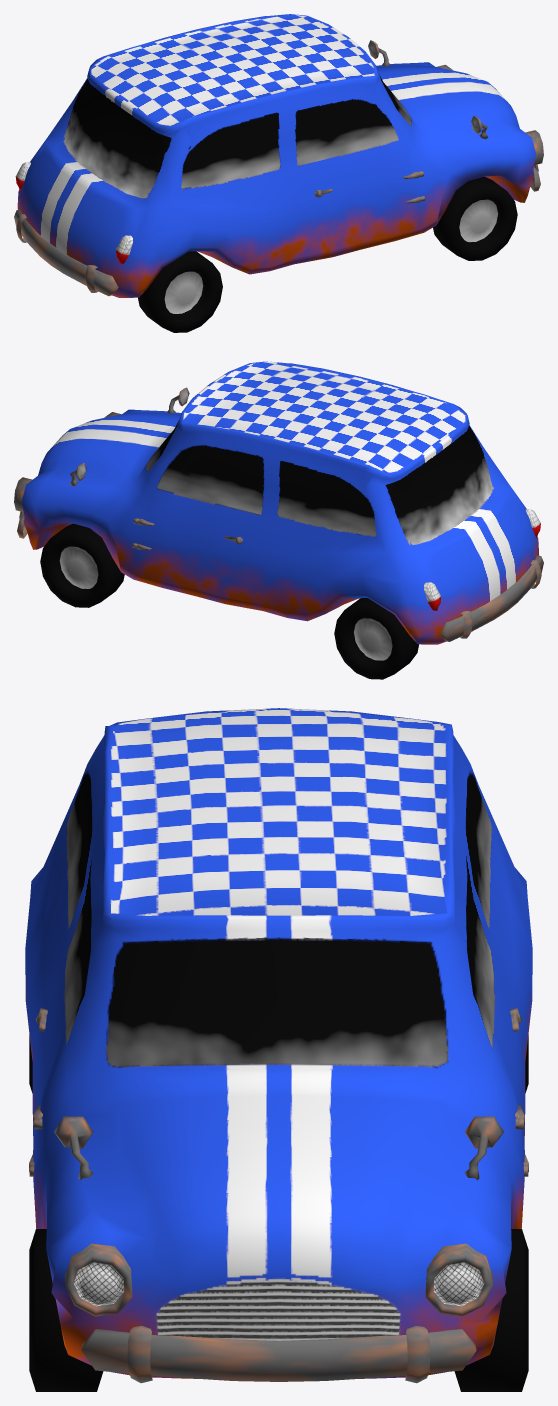
The model's file is carblue.glb.
The picture shows the model from 3 angles, top to bottom: view 1: azimuth 30°, elevation 25°; view 2: azimuth 150°, elevation 25°; view 3: azimuth 270°, elevation 25°; orthographic projection. The views are drawn at different scales.
Parts seen in each view (by area): view 1: carblue, lowpolywheel.004, lowpolywheel.003, Cube.005, backlight, RETROVISEURLOW; view 2: carblue, lowpolywheel.001, lowpolywheel.002, Cube.005, backlight, RETROVISEURLOW; view 3: carblue, Cube.004, lightinfront, lowpolywheel.001, lowpolywheel.004, RETROVISEURLOW, Cube.003.
Boxes of the visible parts, x1,y1,x2,y2 form: carblue: (17,14,536,297); lowpolywheel.004: (433,176,517,260); lowpolywheel.003: (138,251,222,332); Cube.005: (14,209,118,296); backlight: (15,162,132,264); RETROVISEURLOW: (368,40,488,139); carblue: (21,361,538,644); lowpolywheel.001: (40,523,124,607); lowpolywheel.002: (334,598,418,679); Cube.005: (440,555,543,641); backlight: (424,509,540,610); RETROVISEURLOW: (69,387,189,486); carblue: (25,708,532,1378); Cube.004: (81,1326,476,1383); lightinfront: (65,1243,492,1316); lowpolywheel.001: (454,1229,528,1391); lowpolywheel.004: (29,1229,103,1391); RETROVISEURLOW: (54,1116,503,1180); Cube.003: (29,1008,528,1176).
Size of the model in its own units: 8.13 by 3.46 by 3.93.
Materials: 2 (2 with a texture image).
